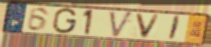1: (81, 9, 96, 37)
6: (26, 7, 52, 32)
G: (51, 7, 79, 35)
I: (167, 14, 183, 41)
V: (133, 12, 162, 40), (108, 10, 135, 39)
